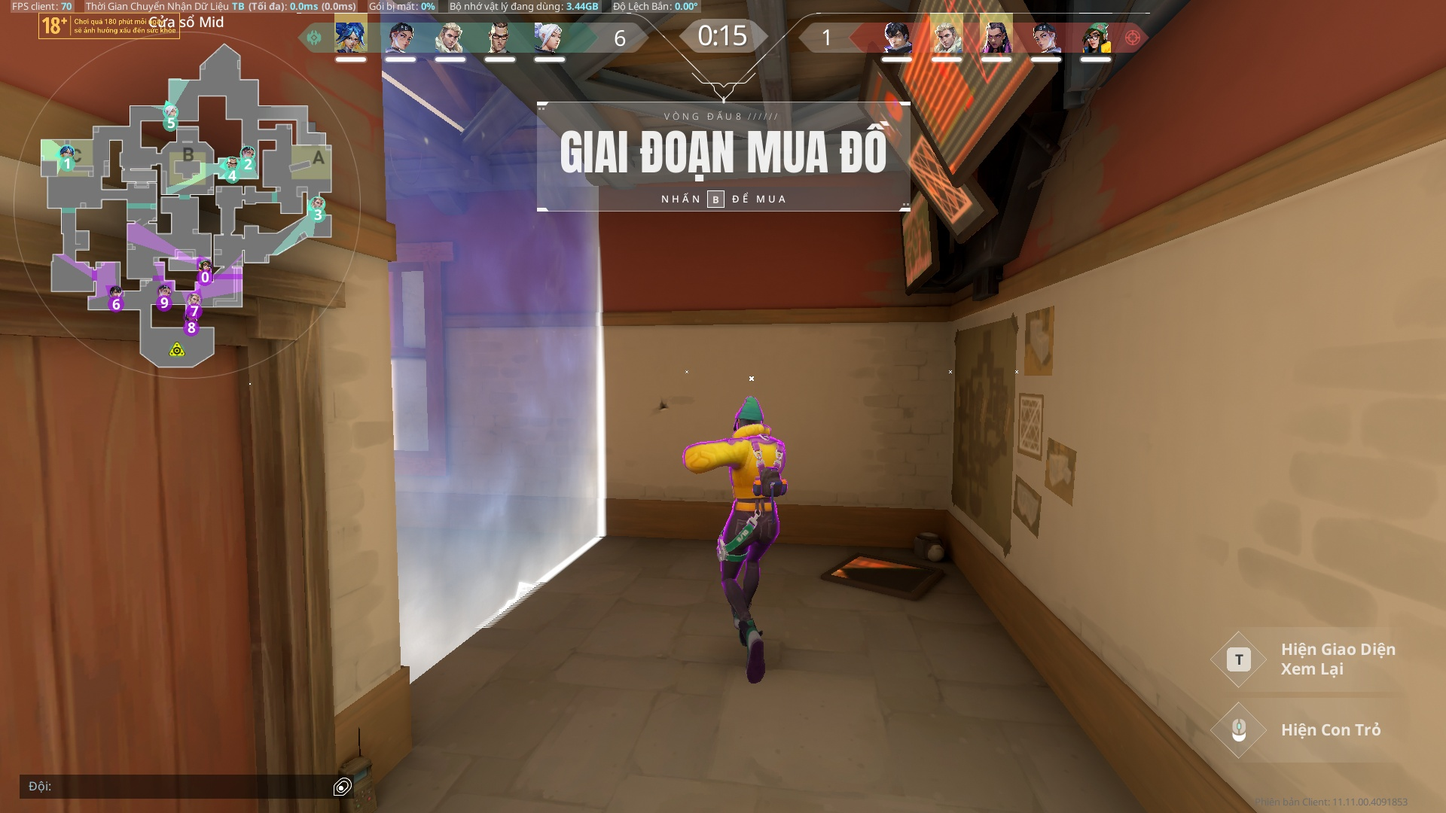body: (726, 432, 789, 501)
head: (735, 409, 768, 436)
